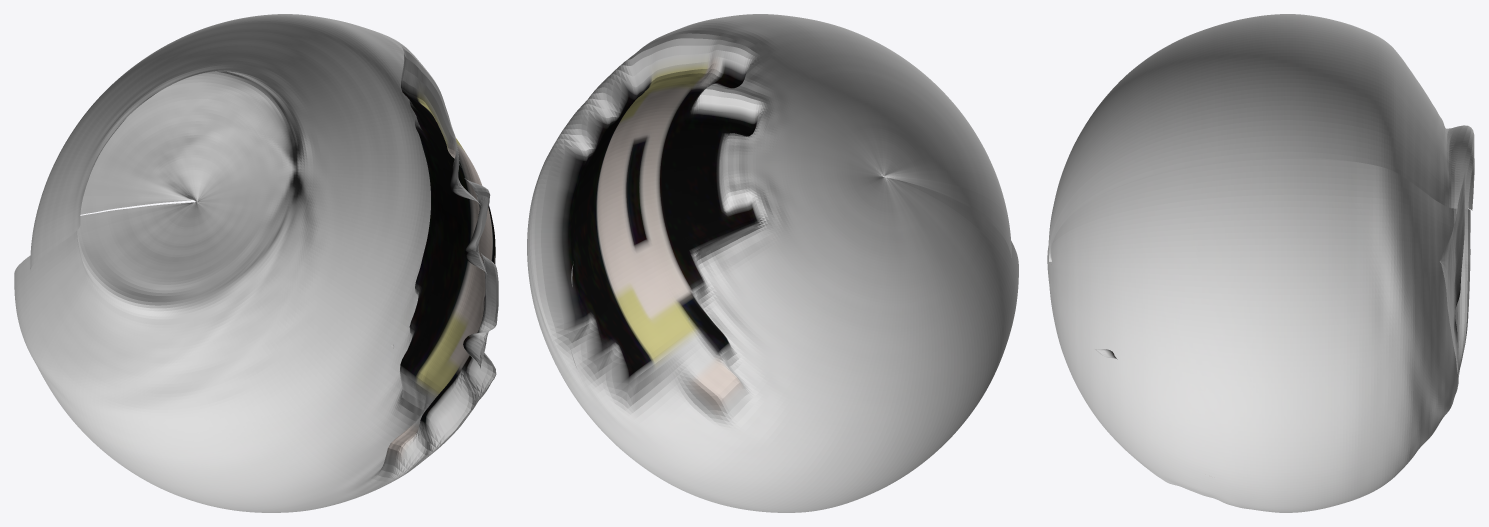
The model's file is tmp0yflh0tn.glb.
3 views of the same model, side by side, from view 1: azimuth 30°, elevation 25°; view 2: azimuth 150°, elevation 25°; view 3: azimuth 270°, elevation 25° (orthographic).
Parts seen in each view (by area): view 1: world; view 2: world; view 3: world.
Part boxes in pixels (box(x1,y1,x2,y2)): world: box(14, 14, 498, 512); world: box(527, 14, 1018, 512); world: box(1047, 14, 1474, 512).
Size of the model in its own units: 4.34 by 4.43 by 3.78.
